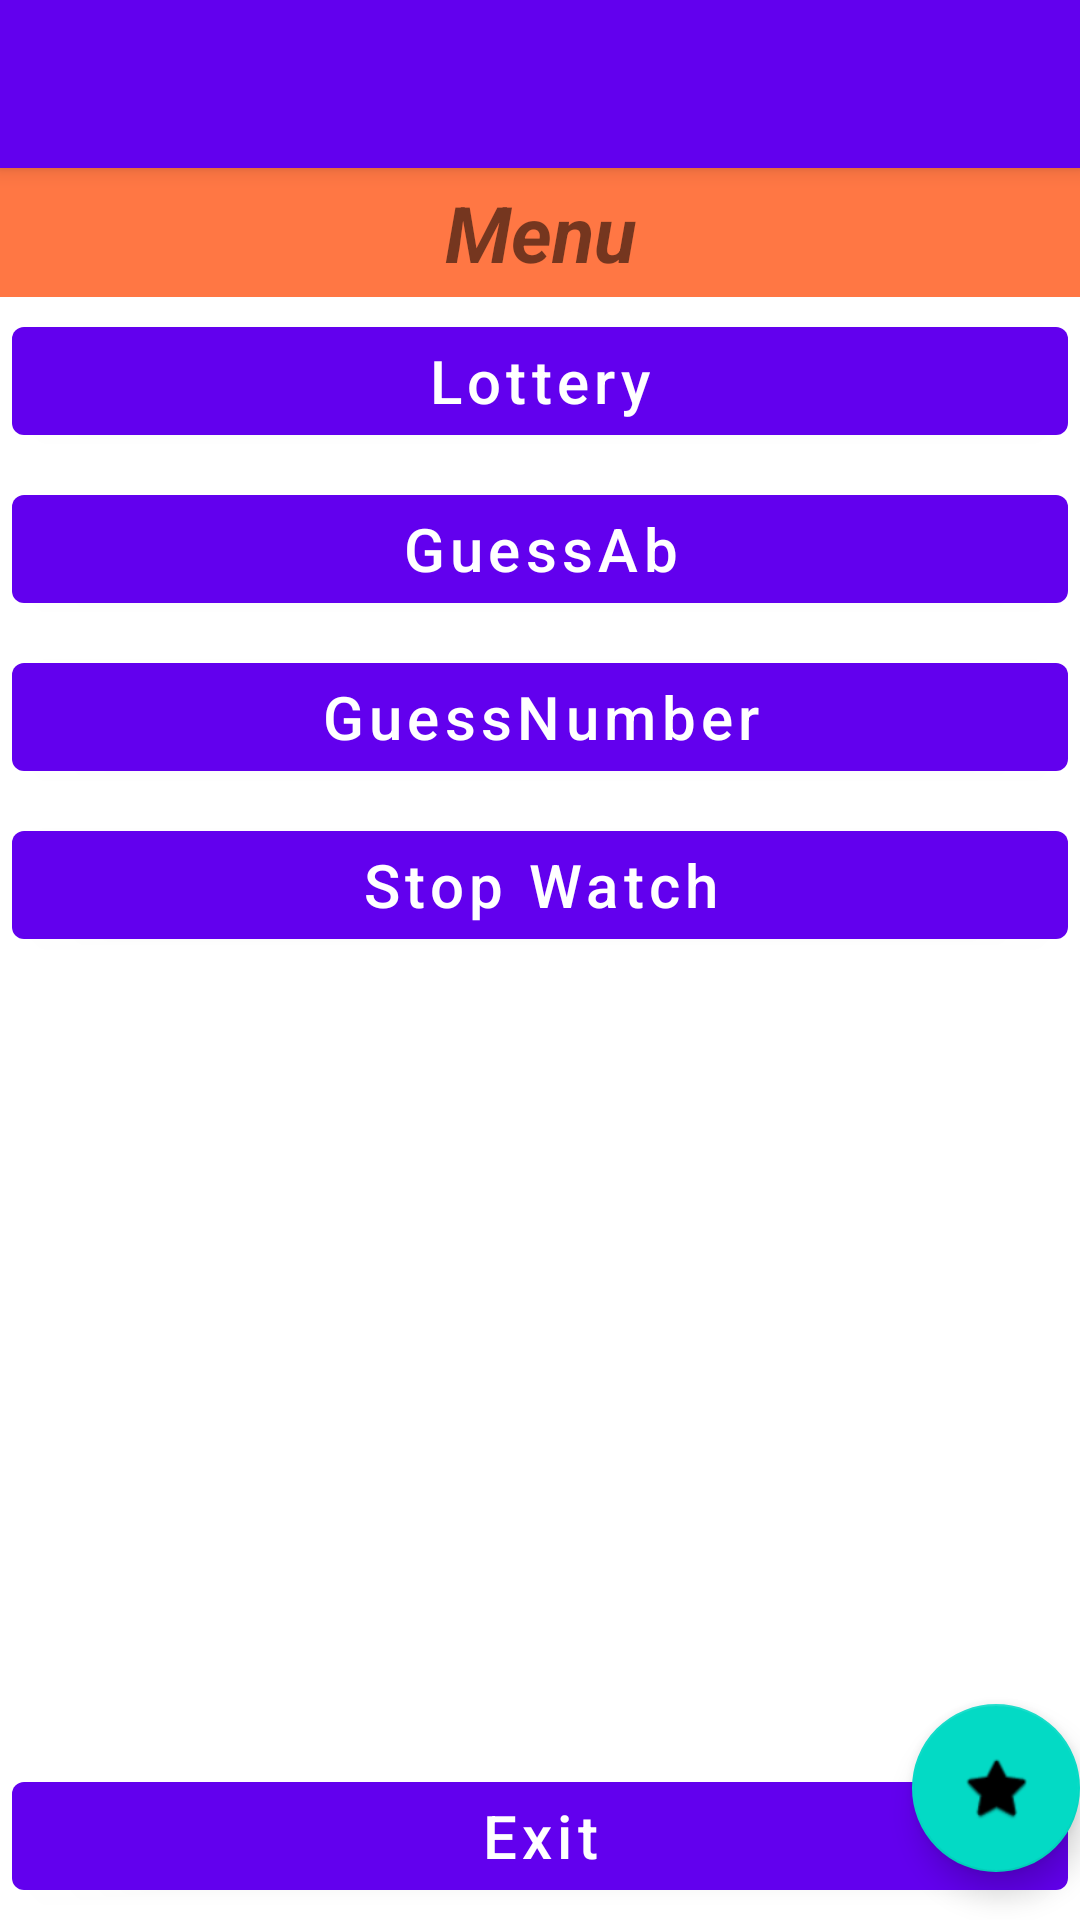

Point at icon controls on the screen. Image size 1080 x 1920, points as [x,y].
star on: [996,1788]
